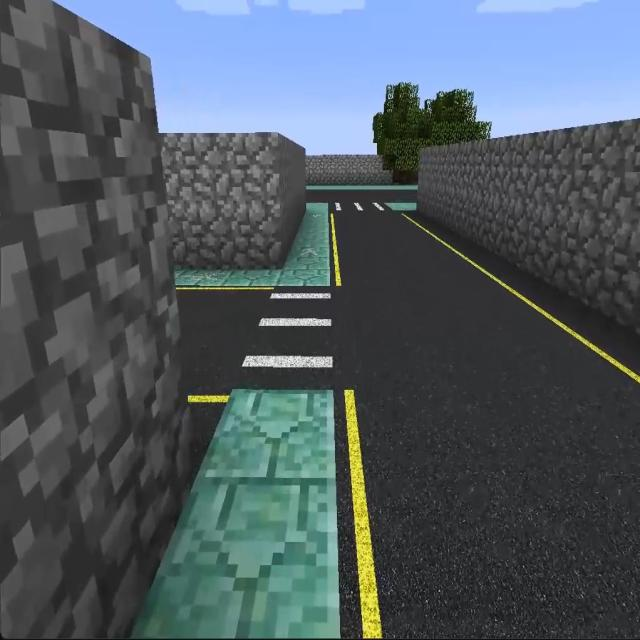crosswalk: (234, 288, 343, 382), (331, 200, 393, 214)
road: (332, 215, 631, 628), (179, 287, 278, 452)
